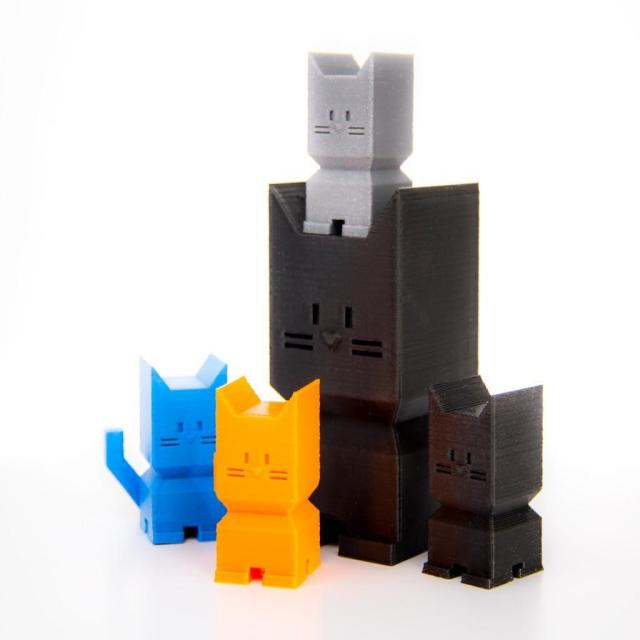Without deffect: (100, 36, 550, 608)
